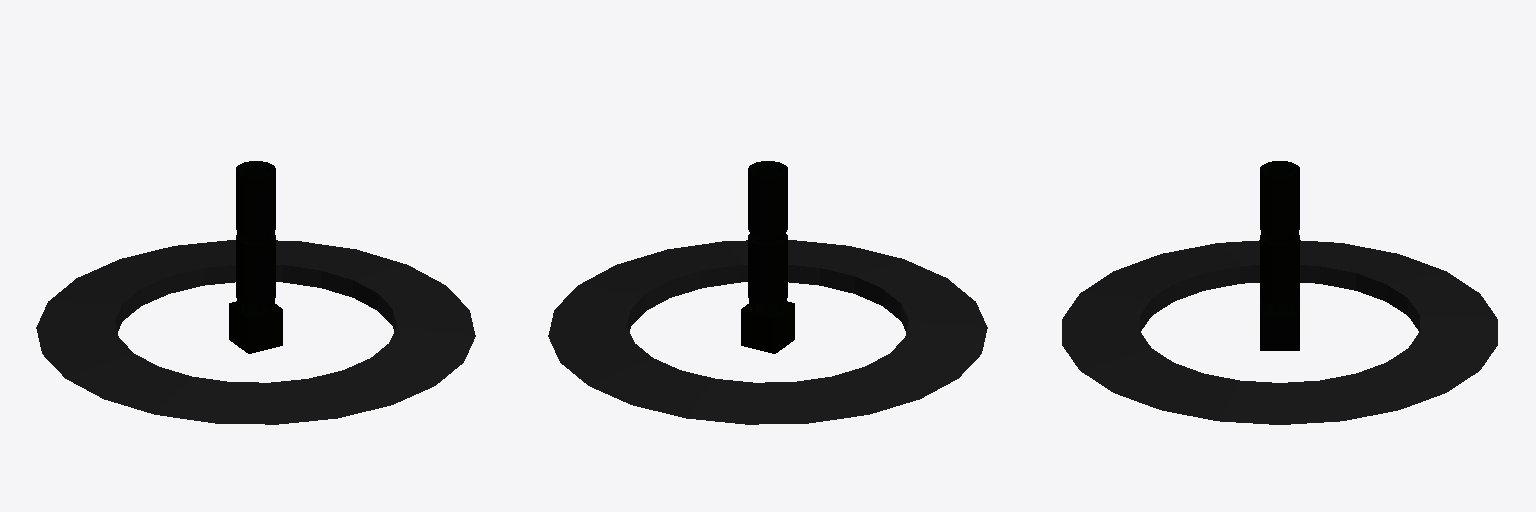
Rendered from orbital2Final.obj.
3 renders of one model, left to right at view 1: azimuth 30°, elevation 25°; view 2: azimuth 150°, elevation 25°; view 3: azimuth 270°, elevation 25°, orthographic.
Visible parts, largest first — view 1: Torus, Cylinder.003_Cylinder.005, Cube_Cube.001, Cylinder.002_Cylinder.004, Cylinder.001, Cylinder; view 2: Torus, Cube_Cube.001, Cylinder.003_Cylinder.005, Cylinder.002_Cylinder.004, Cylinder.001, Cylinder; view 3: Torus, Cylinder.003_Cylinder.005, Cylinder.002_Cylinder.004, Cube_Cube.001, Cylinder.001, Cylinder.
Boxes of the visible parts, x1=… form: Torus: x1=36, y1=240, x2=475, y2=424; Cylinder.003_Cylinder.005: x1=236, y1=161, x2=275, y2=236; Cube_Cube.001: x1=229, y1=301, x2=282, y2=353; Cylinder.002_Cylinder.004: x1=236, y1=232, x2=275, y2=313; Cylinder.001: x1=236, y1=234, x2=275, y2=310; Cylinder: x1=236, y1=161, x2=275, y2=236; Torus: x1=548, y1=240, x2=987, y2=424; Cube_Cube.001: x1=741, y1=301, x2=794, y2=353; Cylinder.003_Cylinder.005: x1=748, y1=161, x2=787, y2=236; Cylinder.002_Cylinder.004: x1=748, y1=233, x2=787, y2=313; Cylinder.001: x1=748, y1=234, x2=787, y2=312; Cylinder: x1=748, y1=161, x2=787, y2=236; Torus: x1=1062, y1=240, x2=1497, y2=424; Cylinder.003_Cylinder.005: x1=1260, y1=161, x2=1299, y2=236; Cylinder.002_Cylinder.004: x1=1260, y1=232, x2=1299, y2=313; Cube_Cube.001: x1=1260, y1=298, x2=1299, y2=350; Cylinder.001: x1=1260, y1=232, x2=1299, y2=312; Cylinder: x1=1260, y1=161, x2=1299, y2=236.
Size of the model in its own units: 21.96 by 9.54 by 21.73.